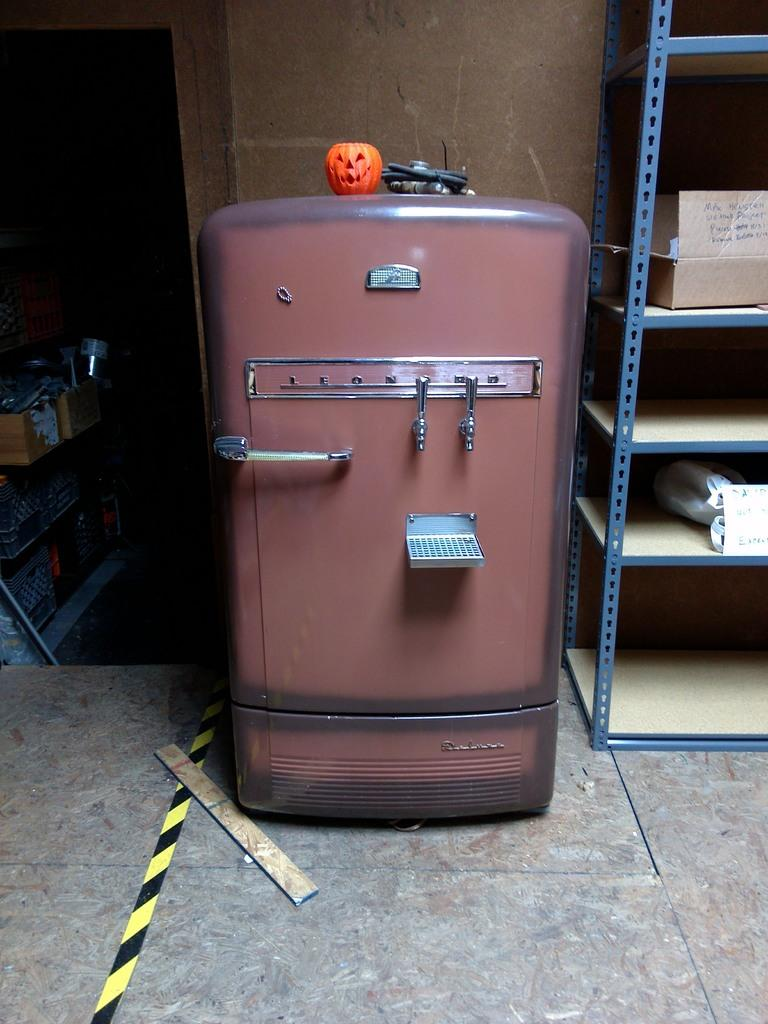handle: (216, 428, 362, 488)
